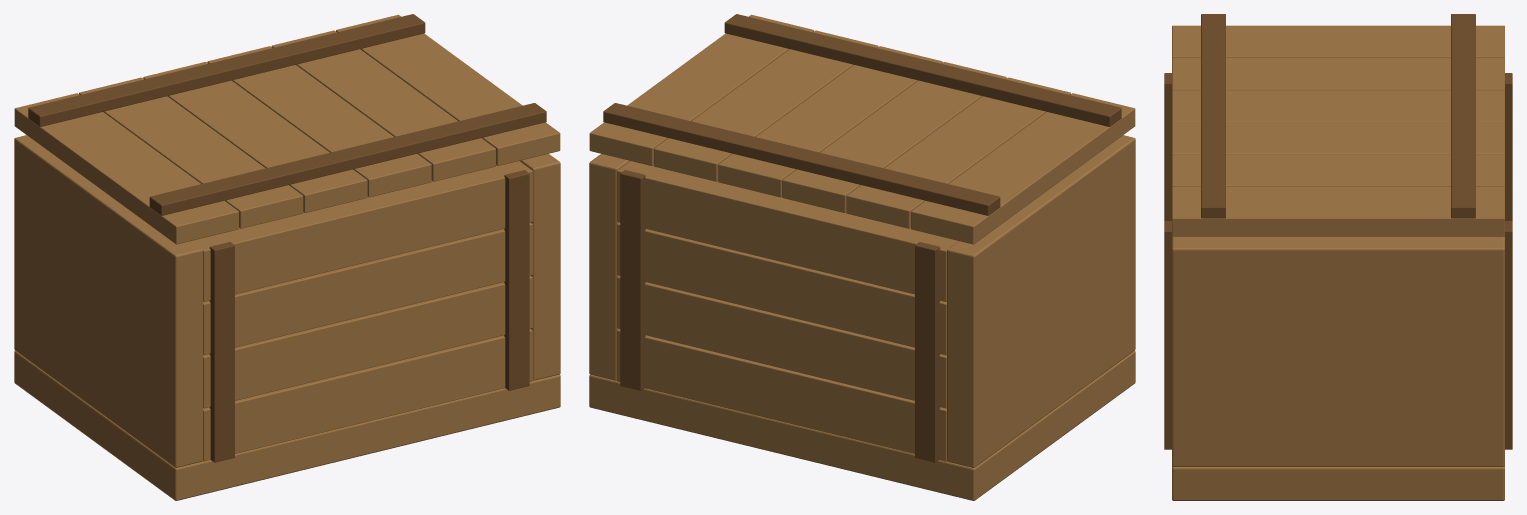
The picture shows the model from 3 angles, left to right: view 1: azimuth 30°, elevation 25°; view 2: azimuth 150°, elevation 25°; view 3: azimuth 270°, elevation 25°; orthographic projection. The views are drawn at different scales.
Parts seen in each view (by area): view 1: CRATE_End.001, CRATE_SideBoard.004, CRATE_Base, CRATE_SideBoard.001, CRATE_SideBoard.003, CRATE_SideBoard.002, LID_Plank_0, LID_Rail, LID_Rail.001, LID_Plank_3, LID_Plank_1, LID_Plank_5 (+5 smaller); view 2: CRATE_End.001, CRATE_SideBoard, CRATE_Base, CRATE_SideBoard.005, CRATE_SideBoard.007, CRATE_SideBoard.006, LID_Plank_0, LID_Rail, LID_Rail.001, LID_Plank_3, LID_Plank_1, LID_Plank_5 (+5 smaller); view 3: CRATE_End, LID_Plank_5, CRATE_Base, LID_Plank_0, LID_Plank_2, LID_Plank_3, LID_Plank_4, LID_Plank_1, LID_Rail, LID_Rail.001, CRATE_Brace.003, CRATE_Brace (+2 smaller).
Boxes of the visible parts, x1,y1,x2,y2 form: CRATE_End.001: [14, 135, 202, 467]; CRATE_SideBoard.004: [191, 161, 532, 301]; CRATE_Base: [14, 351, 560, 500]; CRATE_SideBoard.001: [203, 329, 532, 461]; CRATE_SideBoard.003: [203, 222, 532, 354]; CRATE_SideBoard.002: [203, 275, 532, 408]; LID_Plank_0: [14, 93, 238, 244]; LID_Rail: [28, 14, 425, 126]; LID_Rail.001: [149, 103, 546, 215]; LID_Plank_3: [207, 46, 431, 197]; LID_Plank_1: [79, 77, 303, 228]; LID_Plank_5: [336, 14, 560, 165]; CRATE_End.001: [947, 135, 1135, 467]; CRATE_SideBoard: [617, 161, 958, 301]; CRATE_Base: [589, 351, 1135, 500]; CRATE_SideBoard.005: [617, 329, 946, 461]; CRATE_SideBoard.007: [617, 222, 946, 354]; CRATE_SideBoard.006: [617, 275, 946, 408]; LID_Plank_0: [911, 93, 1135, 244]; LID_Rail: [603, 103, 1000, 215]; LID_Rail.001: [724, 14, 1121, 126]; LID_Plank_3: [718, 46, 942, 197]; LID_Plank_1: [846, 77, 1070, 228]; LID_Plank_5: [589, 14, 813, 165]; CRATE_End: [1172, 236, 1504, 466]; LID_Plank_5: [1172, 187, 1504, 236]; CRATE_Base: [1172, 466, 1504, 500]; LID_Plank_0: [1172, 25, 1504, 57]; LID_Plank_2: [1172, 90, 1504, 122]; LID_Plank_3: [1172, 122, 1504, 154]; LID_Plank_4: [1172, 154, 1504, 186]; LID_Plank_1: [1172, 58, 1504, 90]; LID_Rail: [1451, 14, 1475, 218]; LID_Rail.001: [1201, 14, 1225, 218]; CRATE_Brace.003: [1164, 221, 1171, 449]; CRATE_Brace: [1505, 221, 1512, 449].
Size of the model in its own units: 1.1 by 0.78 by 0.837.
